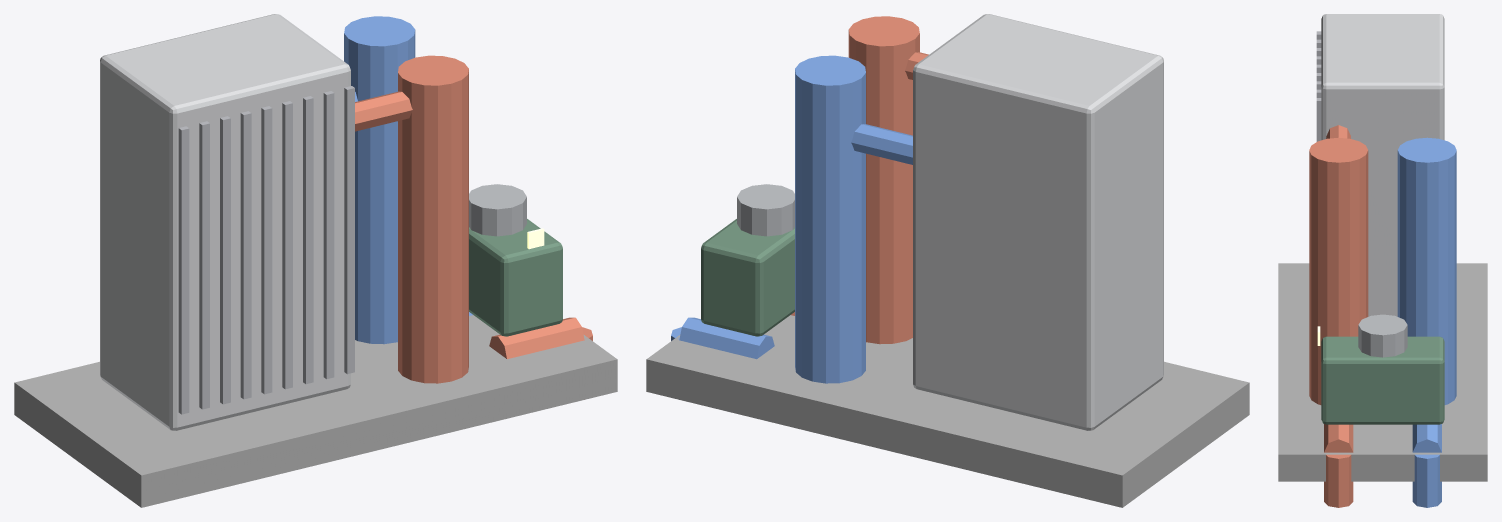
File: heatx.fbx
3 renders of one model, left to right at view 1: azimuth 30°, elevation 25°; view 2: azimuth 150°, elevation 25°; view 3: azimuth 270°, elevation 25°, orthographic. The views are drawn at different scales.
Parts seen in each view (by area): view 1: heatx; view 2: heatx; view 3: heatx.
Part boxes in pixels (bbox=[...]): heatx: bbox=[14, 14, 617, 507]; heatx: bbox=[646, 14, 1249, 507]; heatx: bbox=[1278, 14, 1487, 507].
Size of the model in its own units: 1.88 by 1.45 by 0.85.
